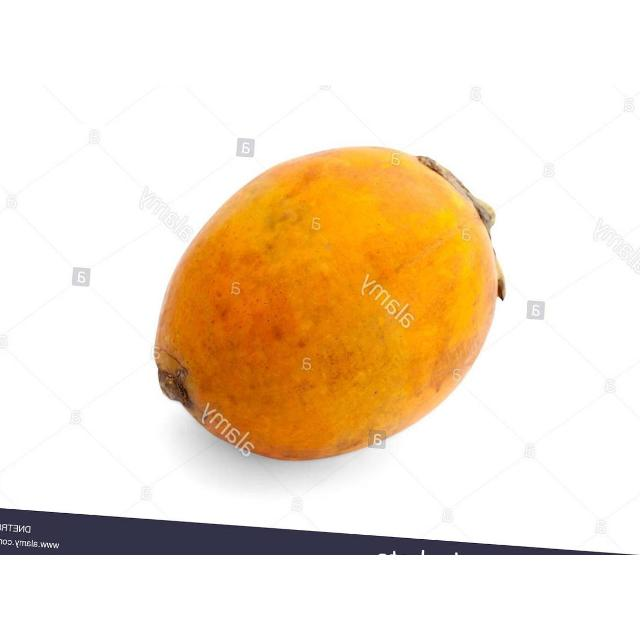good: (152, 147, 504, 464)
